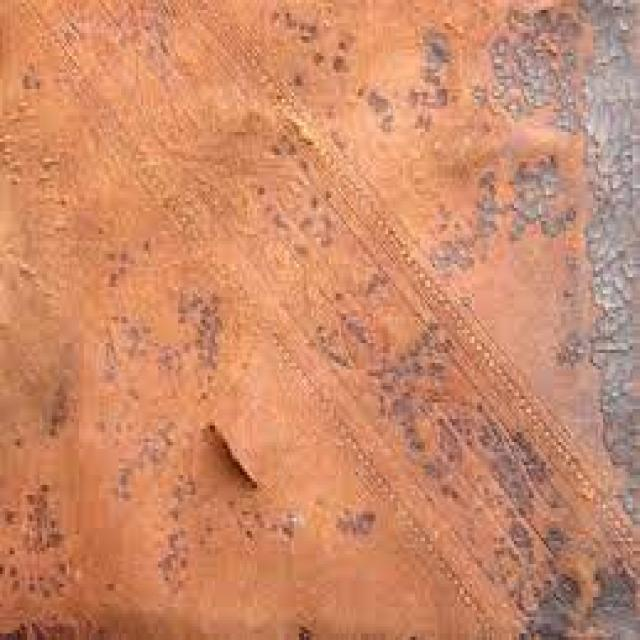Rotten surface: (402, 358, 623, 628), (493, 31, 626, 264)
Scratch: (180, 383, 312, 544)
